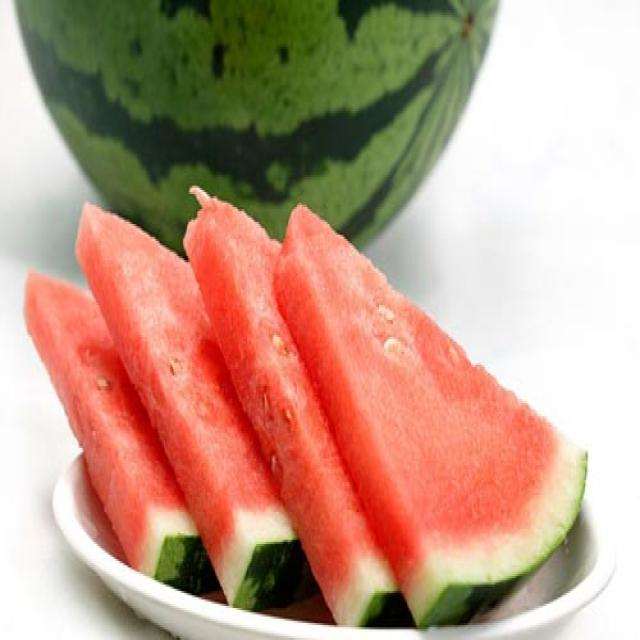dua hau: (275, 209, 584, 623), (186, 188, 396, 623), (81, 205, 294, 597), (26, 273, 196, 574)
